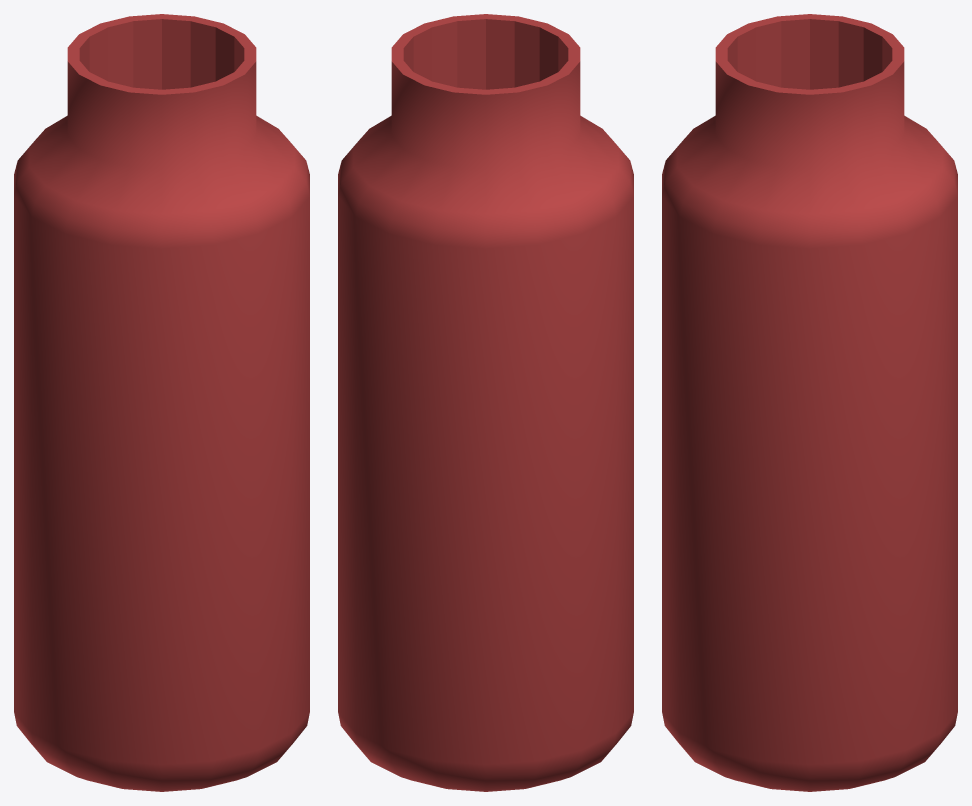
Rendered from vase6.FBX.
The picture shows the model from 3 angles, left to right: view 1: azimuth 30°, elevation 25°; view 2: azimuth 150°, elevation 25°; view 3: azimuth 270°, elevation 25°; orthographic projection.
Parts seen in each view (by area): view 1: vase6; view 2: vase6; view 3: vase6.
Part boxes in pixels (x1,y1,x2,y2): vase6: [14, 14, 309, 791]; vase6: [338, 14, 633, 791]; vase6: [662, 14, 957, 791].
Size of the model in its own units: 4.76 by 4.69 by 12.04.
Materials: 1 (1 with a texture image).
